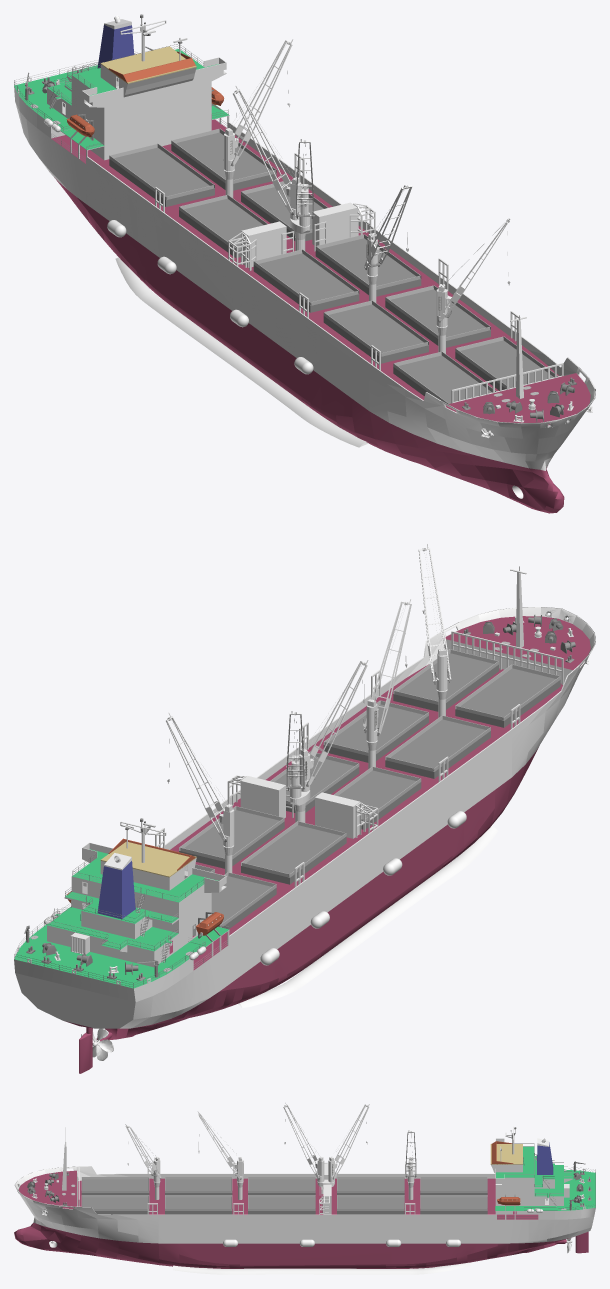
The model's file is Ship_model.glb.
The picture shows the model from 3 angles, top to bottom: view 1: azimuth 30°, elevation 25°; view 2: azimuth 150°, elevation 25°; view 3: azimuth 270°, elevation 25°; orthographic projection. The views are drawn at different scales.
Visible parts, largest first — view 1: hatch cover (×10), mesh_14 (×5), Hull (×4), superstructure (×2), Main deck, bulwark, Bilge keel, Crane jib, forecastle deck, mesh_52, mesh_56, Deck crane (+6 smaller); view 2: hatch cover (×9), mesh_14 (×3), Hull (×4), mesh_56, bulwark, Main deck, superstructure (×4), Crane jib, Bilge keel, Transom stern, forecastle deck, mesh_52 (+8 smaller); view 3: mesh_14 (×13), hatch cover (×10), Hull (×4), bulwark, Main deck, mesh_56, Bilge keel, Crane jib, forecastle deck, superstructure, Deck crane, Bulwark (+9 smaller).
Boxes of the visible parts, x1,y1,x2,y2 form: hatch cover (×10): (109,132,553,403); mesh_14 (×5): (67,150,485,444); Hull (×4): (93,210,352,421); superstructure (×2): (47,66,212,160); Main deck: (51,119,559,400); bulwark: (86,122,575,418); Bilge keel: (115,257,368,447); Crane jib: (233,40,510,321); forecastle deck: (445,373,590,425); mesh_52: (241,202,357,267); mesh_56: (14,49,229,149); Deck crane: (224,132,452,326); hatch cover (×9): (179,653,560,929); mesh_14 (×3): (209,712,545,997); Hull (×4): (236,790,494,988); mesh_56: (14,849,229,988); bulwark: (161,638,576,944); Main deck: (169,664,562,970); superstructure (×4): (47,876,211,967); Crane jib: (166,548,450,840); Bilge keel: (238,826,498,1007); Transom stern: (15,973,135,1028); forecastle deck: (445,616,590,669); mesh_52: (240,776,359,838); mesh_14 (×13): (45,1206,593,1243); hatch cover (×10): (81,1179,487,1214); Hull (×4): (61,1236,497,1268); bulwark: (77,1170,495,1219); Main deck: (78,1178,538,1219); mesh_56: (495,1146,595,1210); Bilge keel: (173,1262,470,1274); Crane jib: (125,1104,416,1178); forecastle deck: (18,1170,76,1208); superstructure: (495,1178,563,1205); Deck crane: (151,1159,414,1182); Bulwark: (14,1166,94,1210).
Size of the model in its own units: 32.54 by 44.55 by 167.
